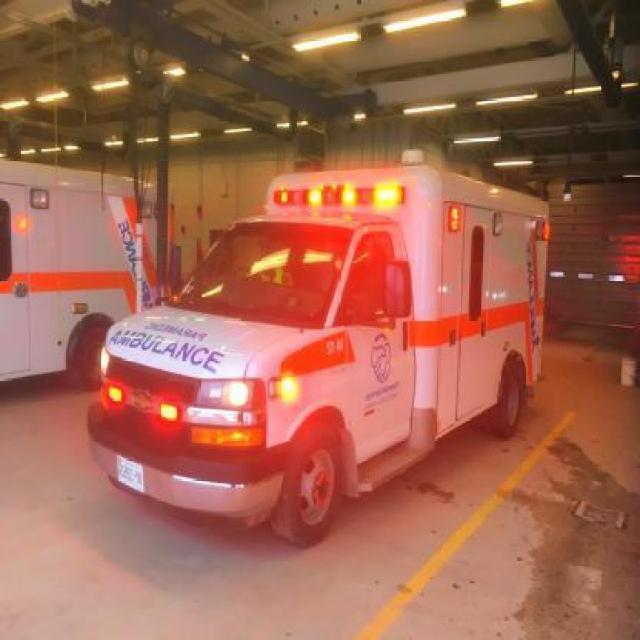emergency: (85, 148, 551, 548), (0, 156, 164, 390)
